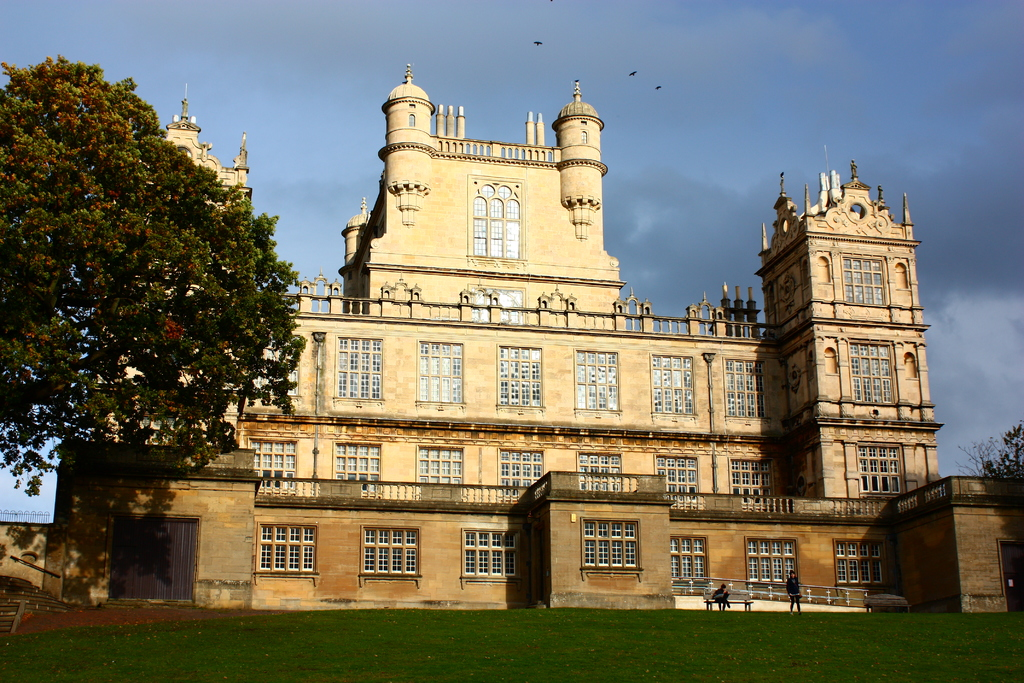Tree: (7, 49, 293, 537), (953, 420, 1023, 478)
